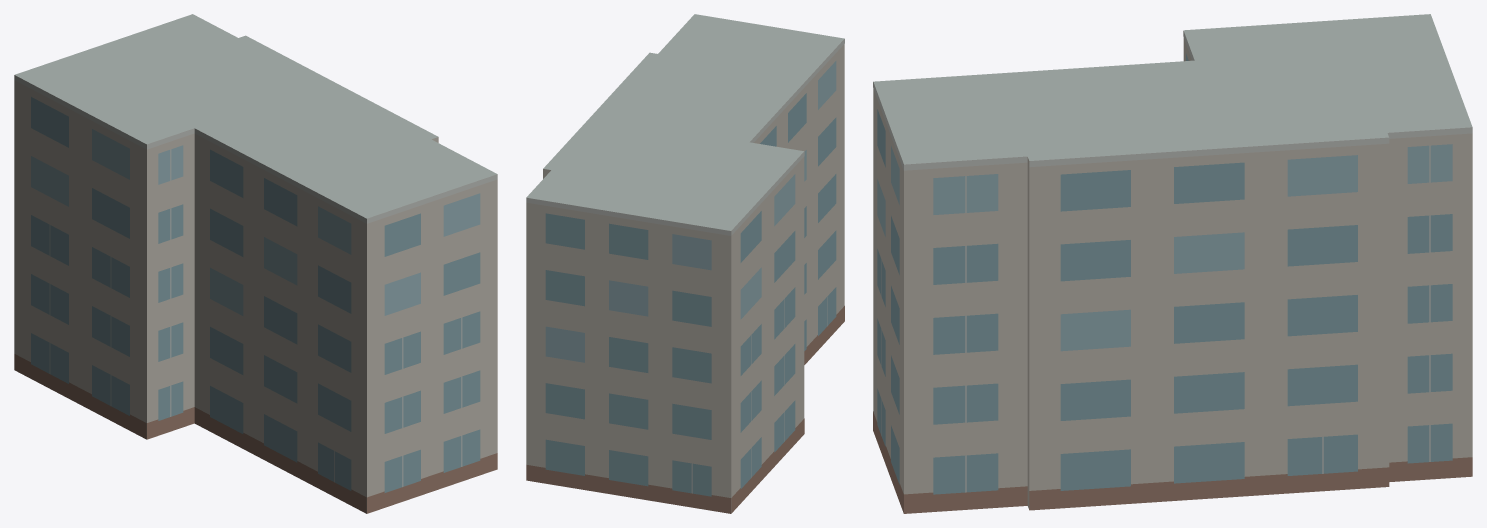
The model's file is survey-upis-32747536.glb.
3 views of the same model, side by side, from view 1: azimuth 30°, elevation 25°; view 2: azimuth 150°, elevation 25°; view 3: azimuth 270°, elevation 25° (orthographic). The views are drawn at different scales.
Visible parts, largest first — view 1: survey-upis-32747536.tmp; view 2: survey-upis-32747536.tmp; view 3: survey-upis-32747536.tmp.
Part boxes in pixels (x1,y1,x2,y2): survey-upis-32747536.tmp: [14, 14, 497, 513]; survey-upis-32747536.tmp: [526, 14, 844, 513]; survey-upis-32747536.tmp: [873, 14, 1472, 513].
Size of the model in its own units: 12.86 by 13.9 by 21.63.
